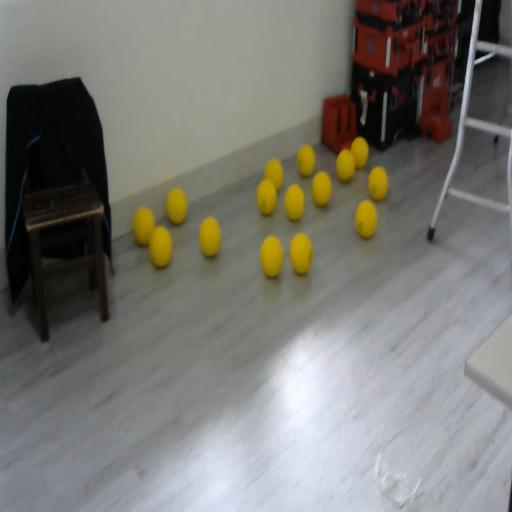FUEL: (259, 234, 285, 280), (148, 225, 173, 269), (289, 231, 313, 275), (198, 216, 222, 258), (134, 205, 156, 246), (355, 200, 378, 238), (166, 186, 188, 224), (256, 178, 278, 215), (284, 183, 305, 221), (311, 171, 332, 207), (368, 166, 389, 200), (336, 147, 356, 182), (296, 143, 316, 176), (350, 136, 370, 168)
